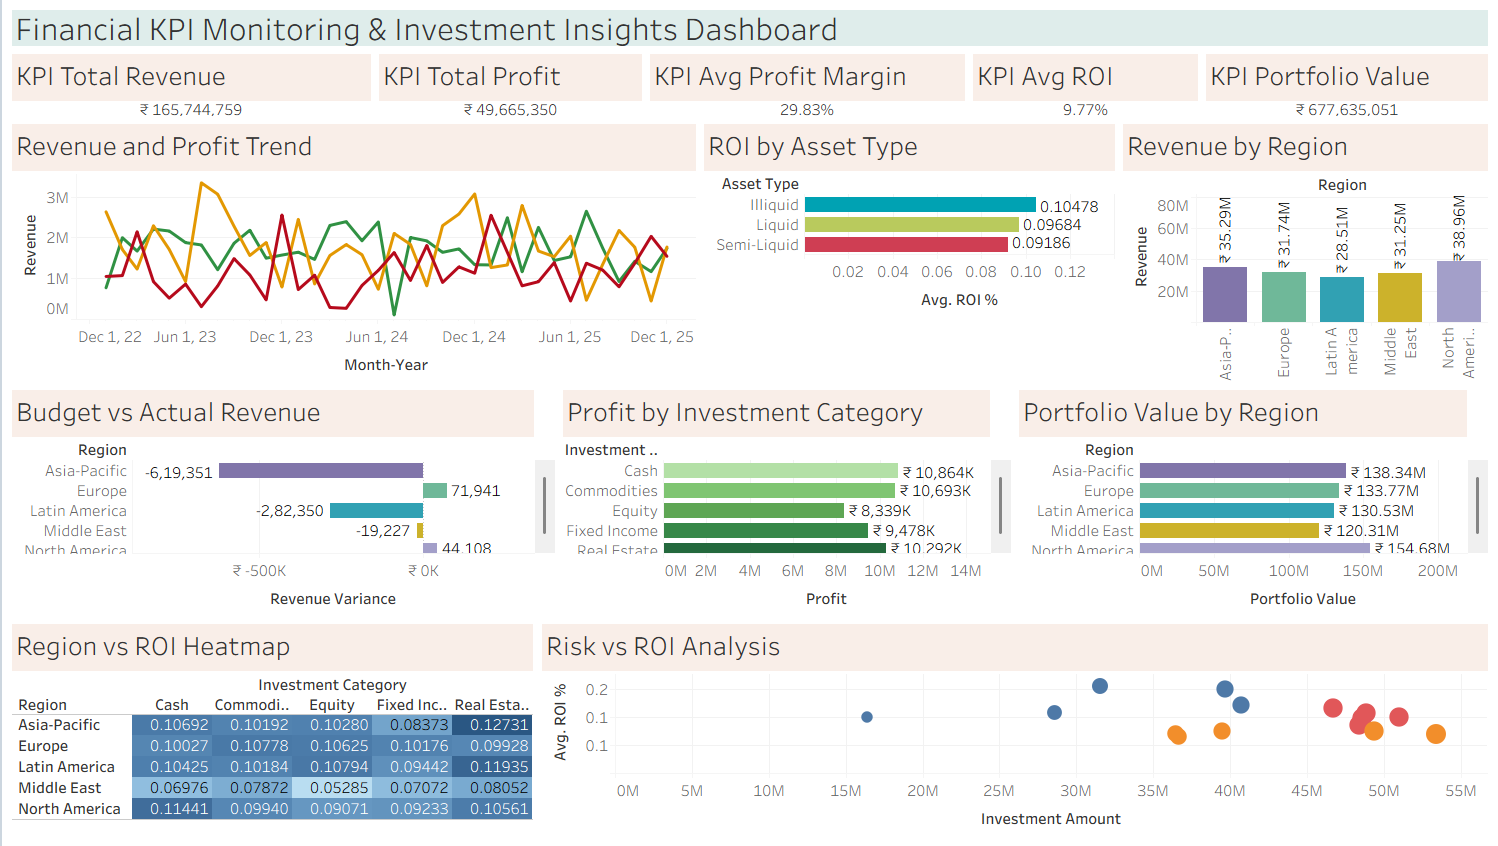

What the dashboard file says about the page in this screenshot:
{"tool":"tableau","page":{"name":"Financial KPI Monitoring & Investment Insights Dashboard","canvas":[1500,850],"ordinal":0},"visuals":[{"type":"title","box":[8,8,1484,44]},{"type":"worksheet","title":"KPI Total Revenue","mark":"Automatic","box":[8,52,366.7,70.1]},{"type":"worksheet","title":"KPI Total Profit","mark":"Automatic","box":[374.7,52,271.2,70.1]},{"type":"worksheet","title":"KPI Avg Profit Margin","mark":"Automatic","box":[645.9,52,322.8,70.1]},{"type":"worksheet","title":"KPI Avg ROI","mark":"Automatic","box":[968.6,52,233.8,70.1]},{"type":"worksheet","title":"KPI Portfolio Value","mark":"Automatic","box":[1202.4,52,289.6,70.1]},{"type":"worksheet","title":"Revenue and Profit Trend","mark":"Line","rows":["Revenue"],"cols":["Month-Year"],"box":[8,122.1,692,258.9]},{"type":"worksheet","title":"ROI by Asset Type","mark":"Bar","rows":["Asset Type"],"cols":["ROI %"],"box":[700,122.1,419,258.9]},{"type":"worksheet","title":"Revenue by Region","mark":"Bar","rows":["Revenue"],"cols":["Region"],"box":[1119,122.1,373,258.9]},{"type":"worksheet","title":"Budget vs Actual Revenue","mark":"Bar","rows":["Region"],"cols":["Revenue Variance"],"box":[8,381,551,241.3]},{"type":"worksheet","title":"Profit by Investment Category","mark":"Bar","rows":["Investment Category"],"cols":["Profit"],"box":[559,381,456.5,241.3]},{"type":"worksheet","title":"Portfolio Value by Region","mark":"Bar","rows":["Region"],"cols":["Portfolio Value"],"box":[1015.5,381,476.5,241.3]},{"type":"worksheet","title":"Region vs ROI Heatmap","mark":"Square","rows":["Region"],"cols":["Investment Category"],"box":[8,622.3,530,219.7]},{"type":"worksheet","title":"Risk vs ROI Analysis","mark":"Circle","rows":["ROI %"],"cols":["Investment Amount"],"box":[538,622.3,954,219.7]}]}

Visuals, with their boxes in screenshot pixels (x1, y1, x2, y2), scaled from the page's 1500x850 canvas onto the 1498x846 screenshot:
title: detection(8, 8, 1490, 52)
"KPI Total Revenue" worksheet: detection(8, 52, 374, 122)
"KPI Total Profit" worksheet: detection(374, 52, 645, 122)
"KPI Avg Profit Margin" worksheet: detection(645, 52, 967, 122)
"KPI Avg ROI" worksheet: detection(967, 52, 1201, 122)
"KPI Portfolio Value" worksheet: detection(1201, 52, 1490, 122)
"Revenue and Profit Trend" worksheet (Line marks): detection(8, 122, 699, 379)
"ROI by Asset Type" worksheet (Bar marks): detection(699, 122, 1118, 379)
"Revenue by Region" worksheet (Bar marks): detection(1118, 122, 1490, 379)
"Budget vs Actual Revenue" worksheet (Bar marks): detection(8, 379, 558, 619)
"Profit by Investment Category" worksheet (Bar marks): detection(558, 379, 1014, 619)
"Portfolio Value by Region" worksheet (Bar marks): detection(1014, 379, 1490, 619)
"Region vs ROI Heatmap" worksheet (Square marks): detection(8, 619, 537, 838)
"Risk vs ROI Analysis" worksheet (Circle marks): detection(537, 619, 1490, 838)
